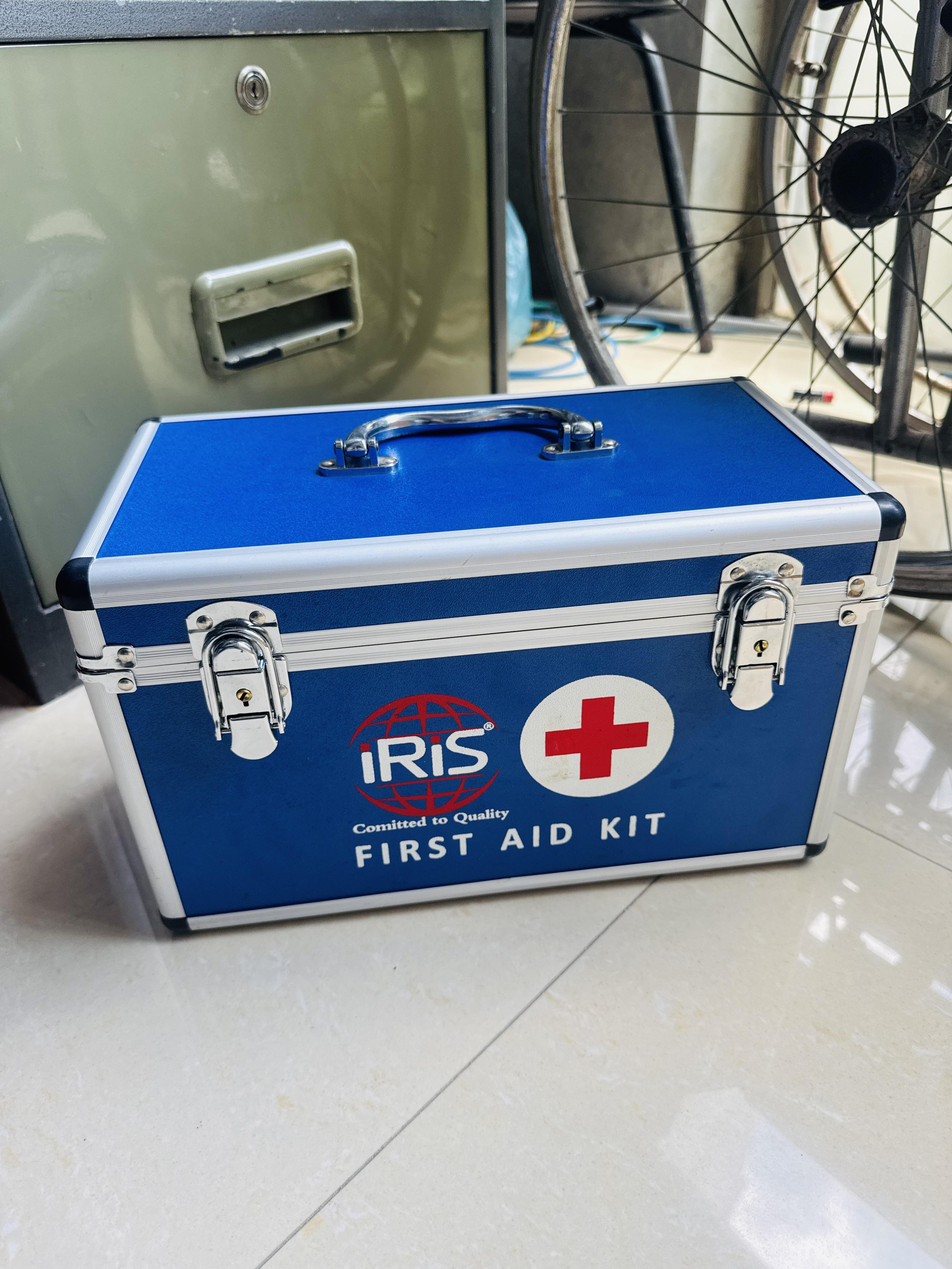FirstAidBox: (50, 354, 923, 968)
